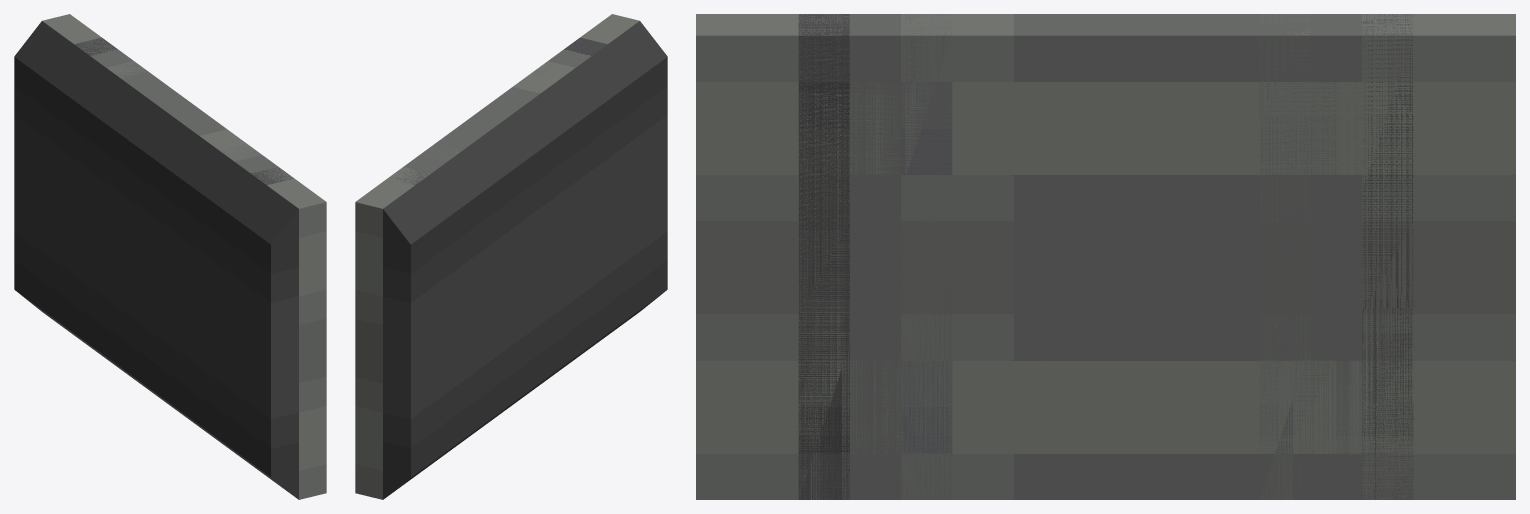
File: fluorescent_lamp_off.obj
3 views of the same model, side by side, from view 1: azimuth 30°, elevation 25°; view 2: azimuth 150°, elevation 25°; view 3: azimuth 270°, elevation 25° (orthographic). The views are drawn at different scales.
Parts seen in each view (by area): view 1: FluoroCap, FluoroSingle, FluoroMid; view 2: FluoroMid, FluoroCap, FluoroSingle; view 3: FluoroCap, FluoroMid, FluoroSingle.
Boxes of the visible parts, left/top/right/bottom form: FluoroCap: left=14, top=14, right=293, bottom=453; FluoroSingle: left=46, top=37, right=238, bottom=452; FluoroMid: left=14, top=58, right=326, bottom=499; FluoroMid: left=411, top=14, right=667, bottom=476; FluoroCap: left=355, top=37, right=613, bottom=499; FluoroSingle: left=390, top=144, right=505, bottom=309; FluoroCap: left=798, top=14, right=1515, bottom=499; FluoroMid: left=696, top=14, right=952, bottom=499; FluoroSingle: left=1259, top=14, right=1413, bottom=499.
Bounding box in the file's own units: 0.125 × 0.625 × 1.
